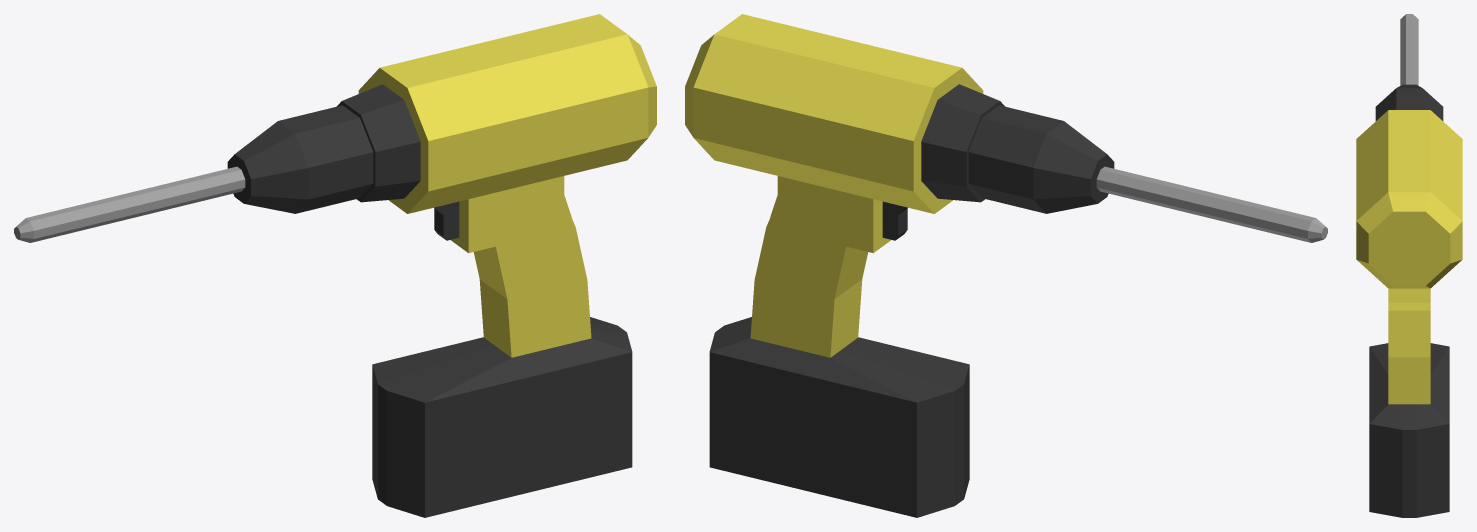
File: drill_v1.fbx
3 renders of one model, left to right at view 1: azimuth 30°, elevation 25°; view 2: azimuth 150°, elevation 25°; view 3: azimuth 270°, elevation 25°, orthographic. The views are drawn at different scales.
Visible parts, largest first — view 1: Cube.001; view 2: Cube.001; view 3: Cube.001.
Part boxes in pixels (<box>): Cube.001: <box>14,14,656,517</box>; Cube.001: <box>685,14,1327,517</box>; Cube.001: <box>1356,14,1462,517</box>.
Size of the model in its own units: 841 by 554 by 165.
